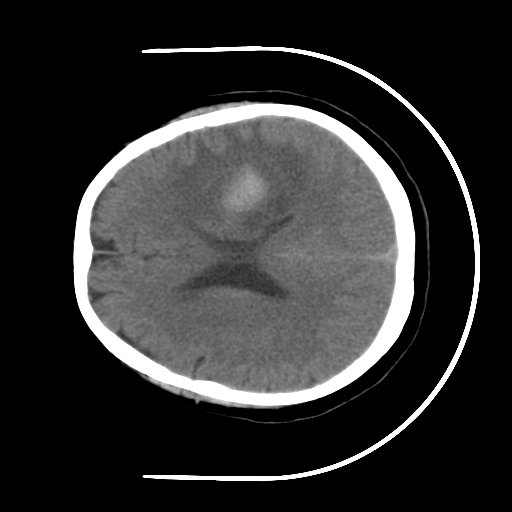a: (193, 145, 295, 237)
